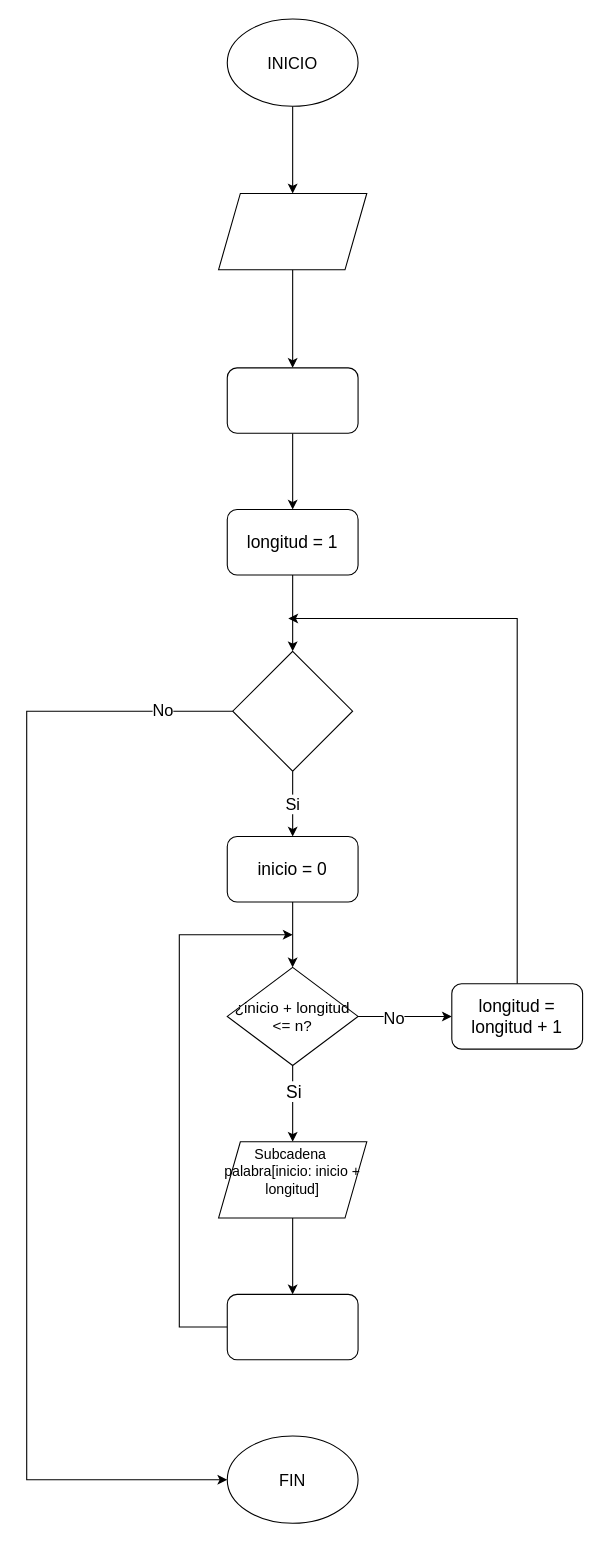
The diagram is 602 pixels wide and 1542 high, and some of its shapes have lost their labels. The shapes that lost their labels are listed below. From the top down, each one's centre as x and y in pixels, then its label:
At point 292,231: "Leer palabra".
At point 292,400: "n = len(palabra)".
At point 292,710: "¿longitud <= n?".
At point 292,1326: "inicio = inicio +1".
